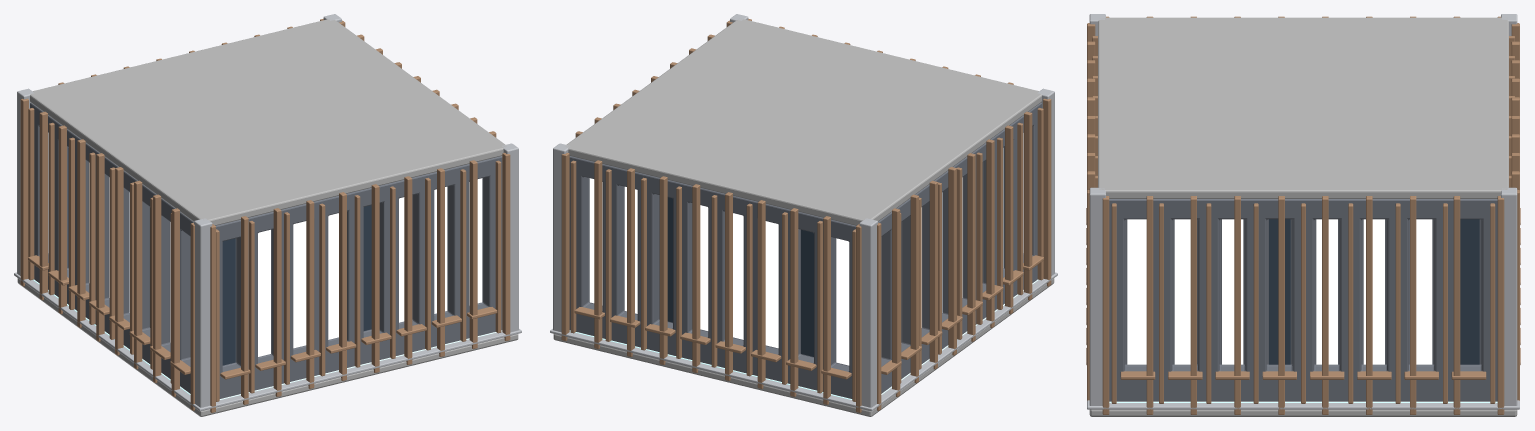
Rendered from deco_5x5.glb.
3 renders of one model, left to right at view 1: azimuth 30°, elevation 25°; view 2: azimuth 150°, elevation 25°; view 3: azimuth 270°, elevation 25°, orthographic. The views are drawn at different scales.
Visible parts, largest first — view 1: int_ceiling, ext_wall, ext_ribs, ext_frames, ext_panes_lit, int_columns, int_slab_edge, ext_panes_dark, int_slab; view 2: int_ceiling, ext_wall, ext_ribs, ext_frames, ext_panes_lit, int_columns, int_slab_edge, int_slab, ext_panes_dark; view 3: int_ceiling, ext_wall, ext_ribs, ext_panes_lit, ext_frames, int_columns, ext_panes_dark, int_slab, int_slab_edge, int_grid.
Boxes of the visible parts, <box> form: int_ceiling: <box>30,19,506,225</box>; ext_wall: <box>30,102,502,398</box>; ext_ribs: <box>20,18,510,412</box>; ext_frames: <box>28,108,501,401</box>; ext_panes_lit: <box>48,133,482,356</box>; int_columns: <box>17,14,518,407</box>; int_slab_edge: <box>14,272,521,411</box>; ext_panes_dark: <box>68,148,371,365</box>; int_slab: <box>17,278,518,416</box>; int_ceiling: <box>565,18,1041,225</box>; ext_wall: <box>569,102,1041,398</box>; ext_ribs: <box>561,18,1051,412</box>; ext_frames: <box>570,108,1043,401</box>; ext_panes_lit: <box>589,133,1023,365</box>; int_columns: <box>553,14,1054,407</box>; int_slab_edge: <box>550,272,1057,411</box>; int_slab: <box>553,278,1054,416</box>; ext_panes_dark: <box>667,163,982,356</box>; int_ceiling: <box>1098,17,1508,198</box>; ext_wall: <box>1109,199,1497,401</box>; ext_ribs: <box>1087,16,1519,414</box>; ext_panes_lit: <box>1127,219,1432,364</box>; ext_frames: <box>1086,36,1520,403</box>; int_columns: <box>1089,14,1517,405</box>; ext_panes_dark: <box>1269,219,1479,364</box>; int_slab: <box>1089,409,1517,416</box>; int_slab_edge: <box>1087,400,1519,409</box>; int_grid: <box>1109,401,1497,402</box>.
Bounding box in the file's own units: 5.28 × 3 × 5.28.
